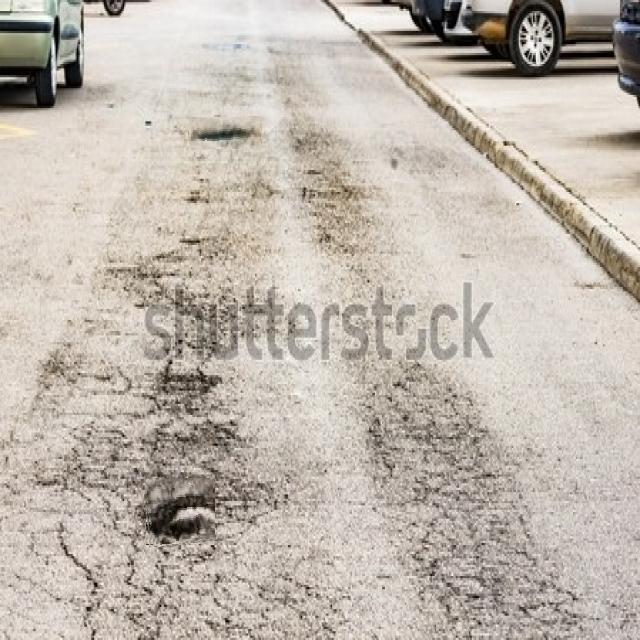Pothole: (145, 478, 215, 547), (190, 117, 262, 149)
